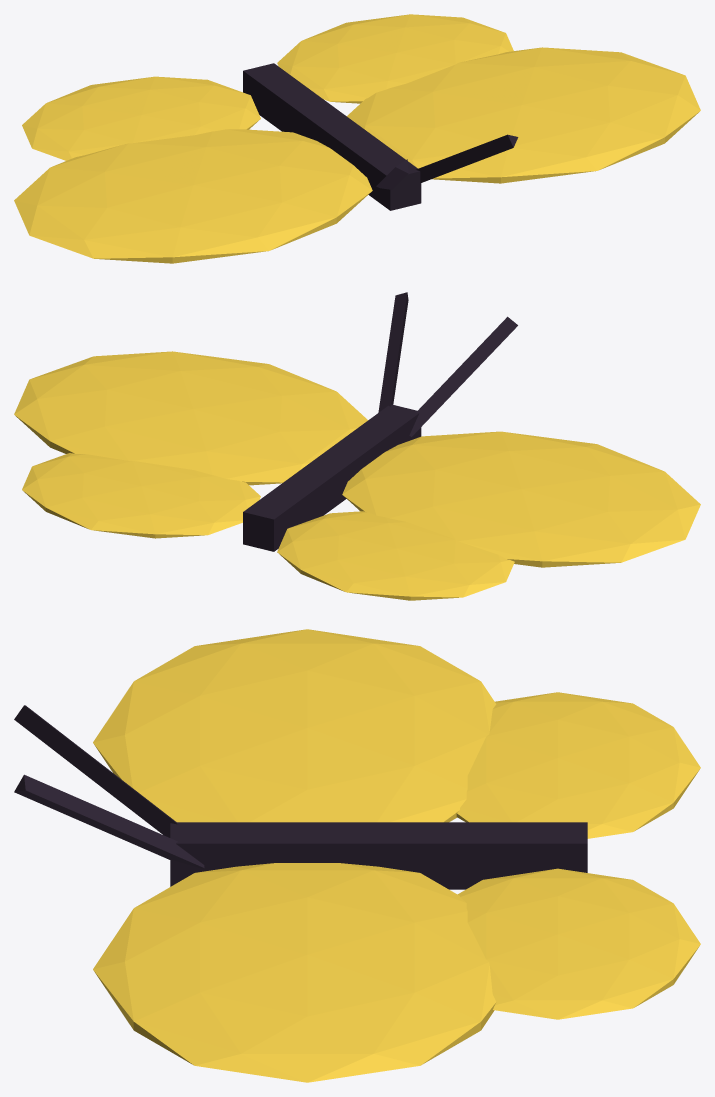
The model's file is butterfly_y.glb.
3 renders of one model, top to bottom at view 1: azimuth 30°, elevation 25°; view 2: azimuth 150°, elevation 25°; view 3: azimuth 270°, elevation 25°, orthographic. The views are drawn at different scales.
Parts seen in each view (by area): view 1: butterfly_y.wingR, butterfly_y.wingL, butterfly_y; view 2: butterfly_y.wingR, butterfly_y.wingL, butterfly_y; view 3: butterfly_y.wingL, butterfly_y.wingR, butterfly_y.
Boxes of the visible parts, x1=… form: butterfly_y.wingR: x1=14, y1=76, x2=372, y2=263; butterfly_y.wingL: x1=277, y1=14, x2=700, y2=183; butterfly_y: x1=243, y1=63, x2=518, y2=210; butterfly_y.wingR: x1=277, y1=431, x2=700, y2=600; butterfly_y.wingL: x1=14, y1=351, x2=367, y2=538; butterfly_y: x1=243, y1=292, x2=517, y2=551; butterfly_y.wingL: x1=93, y1=863, x2=700, y2=1082; butterfly_y.wingR: x1=93, y1=629, x2=700, y2=838; butterfly_y: x1=14, y1=705, x2=587, y2=889.
Size of the model in its own units: 0.18 by 0.0257 by 0.1152.
